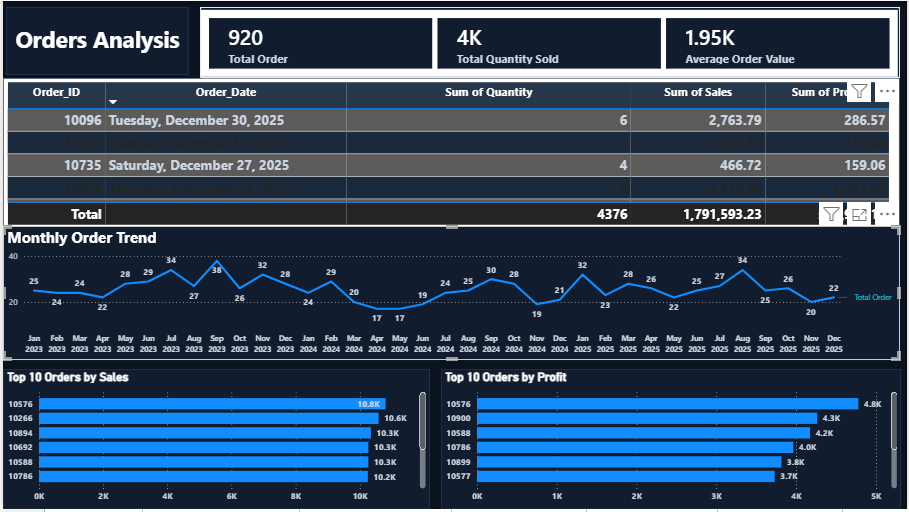

The page's visual inventory and layout, read from the dashboard file:
{"tool":"powerbi","page":{"name":"Orders Analysis","canvas":[1280,720],"ordinal":5},"visuals":[{"type":"textbox","box":[4.3,8.5,259.4,96.4],"z":0},{"type":"cardVisual","fields":{"Data":["ALL_DAX.Total Order"]},"box":[34.4,217.6,255.6,105.2],"z":1000},{"type":"cardVisual","fields":{"Data":["ALL_DAX.Average Order Value"]},"box":[290.1,306.4,255.6,108.8],"z":2000},{"type":"cardVisual","fields":{"Data":["ALL_DAX.Total Quantity Sold"]},"box":[262.9,224.8,257.5,110.6],"z":3000},{"type":"lineChart","title":"Monthly Order Trend","fields":{"Y":["ALL_DAX.Total Order"],"Category":["Dim_Date.Month Year label"]},"box":[0,318.9,1271.3,190],"z":4000},{"type":"clusteredBarChart","title":"Top 10 Orders by Sales","fields":{"Category":["Fact_Sales.Order_ID"],"Y":["Sum(Fact_Sales.Sales)"]},"box":[0,521.4,604.9,199.2],"z":5000},{"type":"clusteredBarChart","title":"Top 10 Orders by Profit","fields":{"Category":["Fact_Sales.Order_ID"],"Y":["Sum(Fact_Sales.Profit)"]},"box":[620.6,521.9,652.3,199],"z":6000},{"type":"tableEx","fields":{"Values":["Fact_Sales.Order_ID","Fact_Sales.Order_Date","Sum(Fact_Sales.Quantity)","Sum(Fact_Sales.Sales)","Sum(Fact_Sales.Profit)"]},"box":[0,109.1,1271.3,214],"z":7000},{"type":"cardVisual","fields":{"Data":["ALL_DAX.Total Order","ALL_DAX.Total Quantity Sold","ALL_DAX.Average Order Value"]},"box":[279.2,8.5,992.1,100.6],"z":8000}]}

Visuals, with their boxes in screenshot pixels (x1, y1, x2, y2), scaled from the page's 1280x720 canvas onto the 909x512 screenshot:
textbox: 3/6/187/75
cardVisual - ALL_DAX.Total Order: 24/155/206/230
cardVisual - ALL_DAX.Average Order Value: 206/218/388/295
cardVisual - ALL_DAX.Total Quantity Sold: 187/160/370/239
"Monthly Order Trend" lineChart: 0/227/903/362
"Top 10 Orders by Sales" clusteredBarChart: 0/371/430/511
"Top 10 Orders by Profit" clusteredBarChart: 441/371/904/511
tableEx - Fact_Sales.Order_ID x Fact_Sales.Order_Date: 0/78/903/230
cardVisual - ALL_DAX.Total Order x ALL_DAX.Total Quantity Sold: 198/6/903/78
